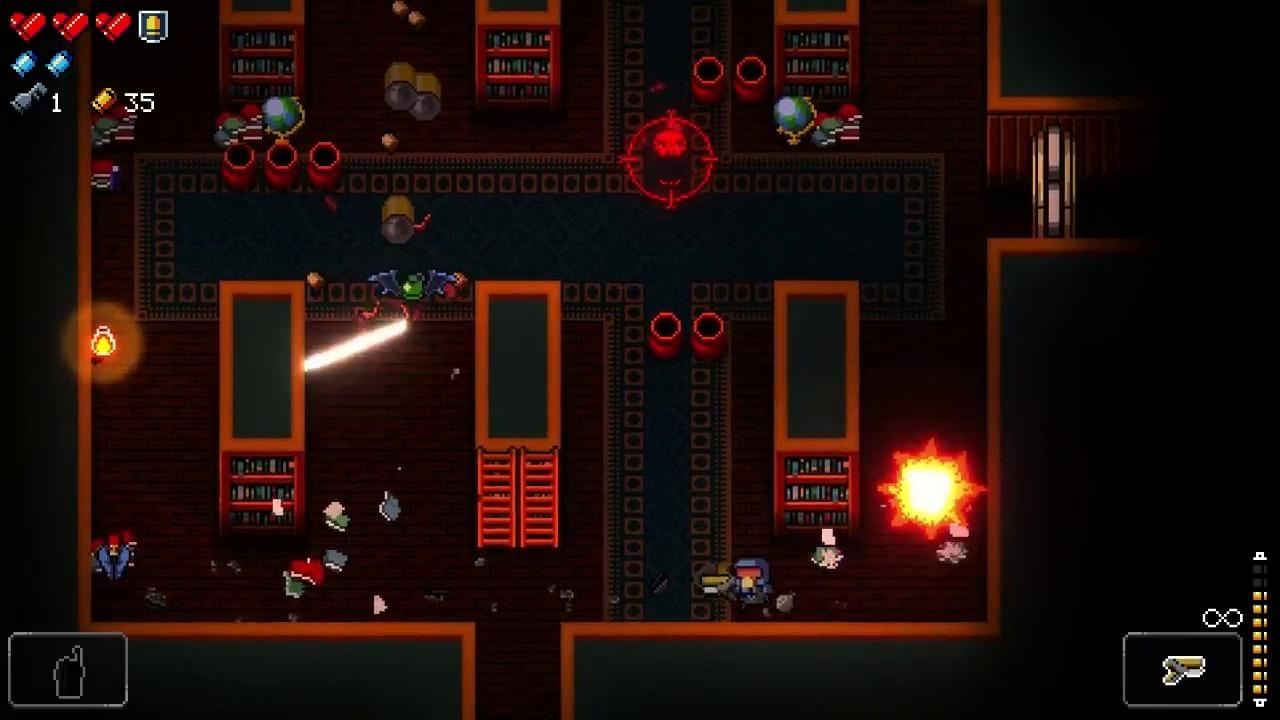enemy_spawn: (616, 111, 720, 209)
grenat: (368, 270, 460, 305)
locked_door: (1028, 123, 1078, 240)
player: (731, 558, 776, 610)
shotgat: (98, 534, 130, 581)
